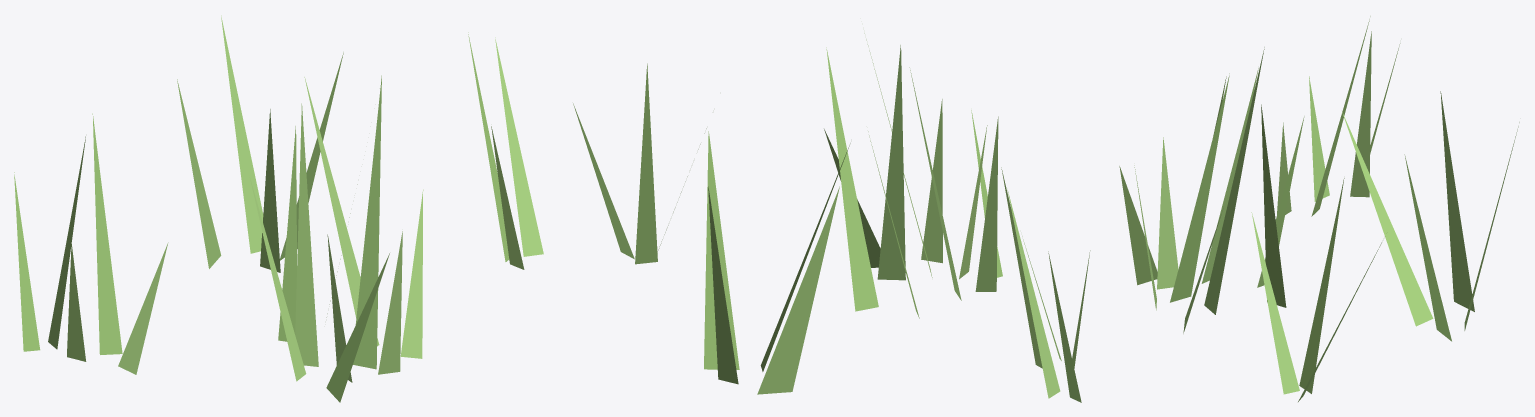
File: Grass_d_TwoS_07.fbx
3 renders of one model, left to right at view 1: azimuth 30°, elevation 25°; view 2: azimuth 150°, elevation 25°; view 3: azimuth 270°, elevation 25°, orthographic. The views are drawn at different scales.
Visible parts, largest first — view 1: Grass_d_TwoS_07; view 2: Grass_d_TwoS_07; view 3: Grass_d_TwoS_07.
Boxes of the visible parts, <box> form: Grass_d_TwoS_07: <box>14,15,543,402</box>; Grass_d_TwoS_07: <box>573,33,1090,402</box>; Grass_d_TwoS_07: <box>1119,16,1519,401</box>.
Size of the model in its own units: 89.75 by 47.91 by 68.34.
